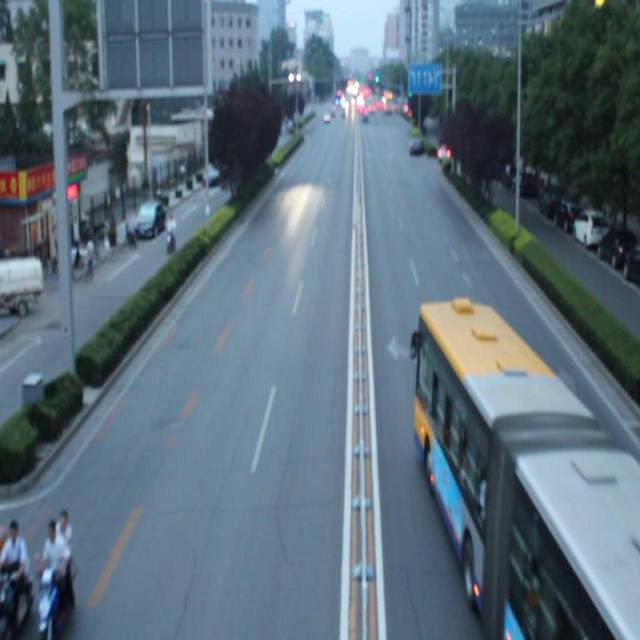van: (418, 303, 640, 640)
